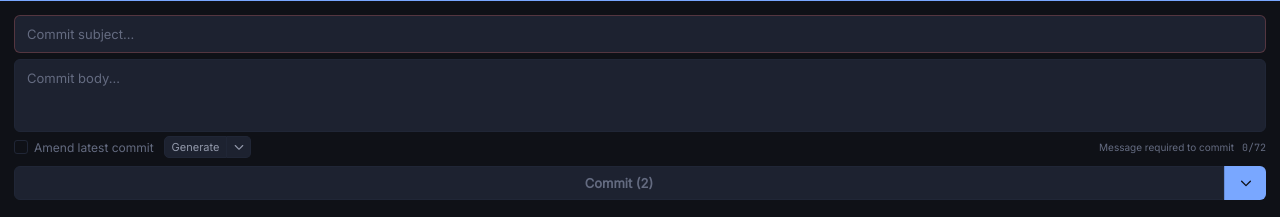
Test: CommitBox › removes quick-generation undo after the user edits the generated message
Click the button "Generate" at coordinates (196, 147), box [164, 136, 227, 158]
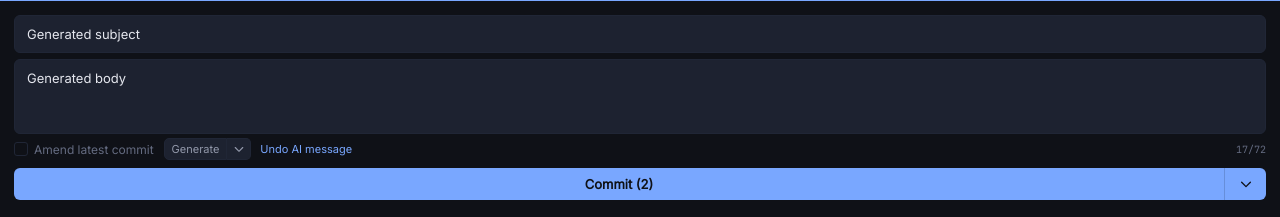
Expected: the button "Undo AI message" is shown, [259, 141, 353, 157]
Replace the text in the field with placeholder "Commit subject..." with "Edited generated subject" at coordinates (640, 34), box [14, 15, 1266, 53]
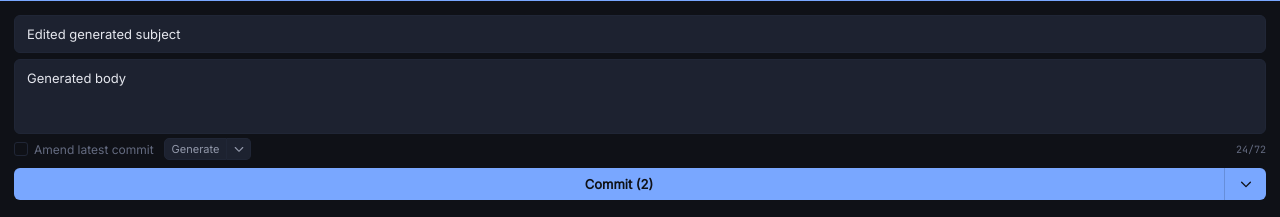
Expected: the button "Undo AI message" is gone
